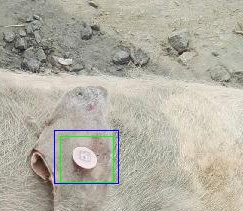text: (60, 136, 113, 182)
